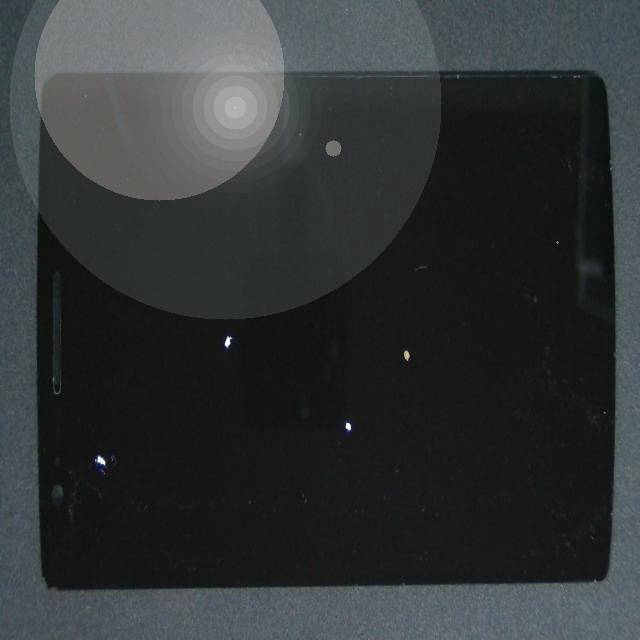stain: (161, 188, 611, 563), (193, 173, 516, 601), (131, 132, 336, 476), (14, 256, 151, 640)
